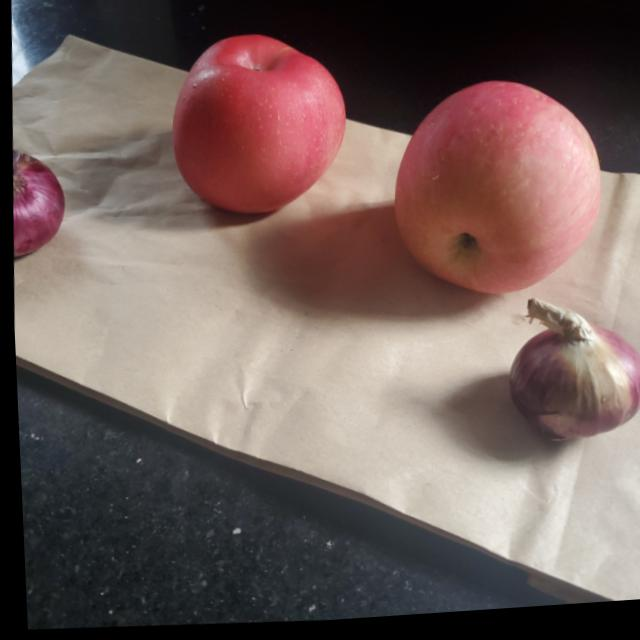apple: (387, 77, 607, 310), (166, 28, 350, 226)
onion: (501, 298, 640, 456), (7, 147, 66, 261)
